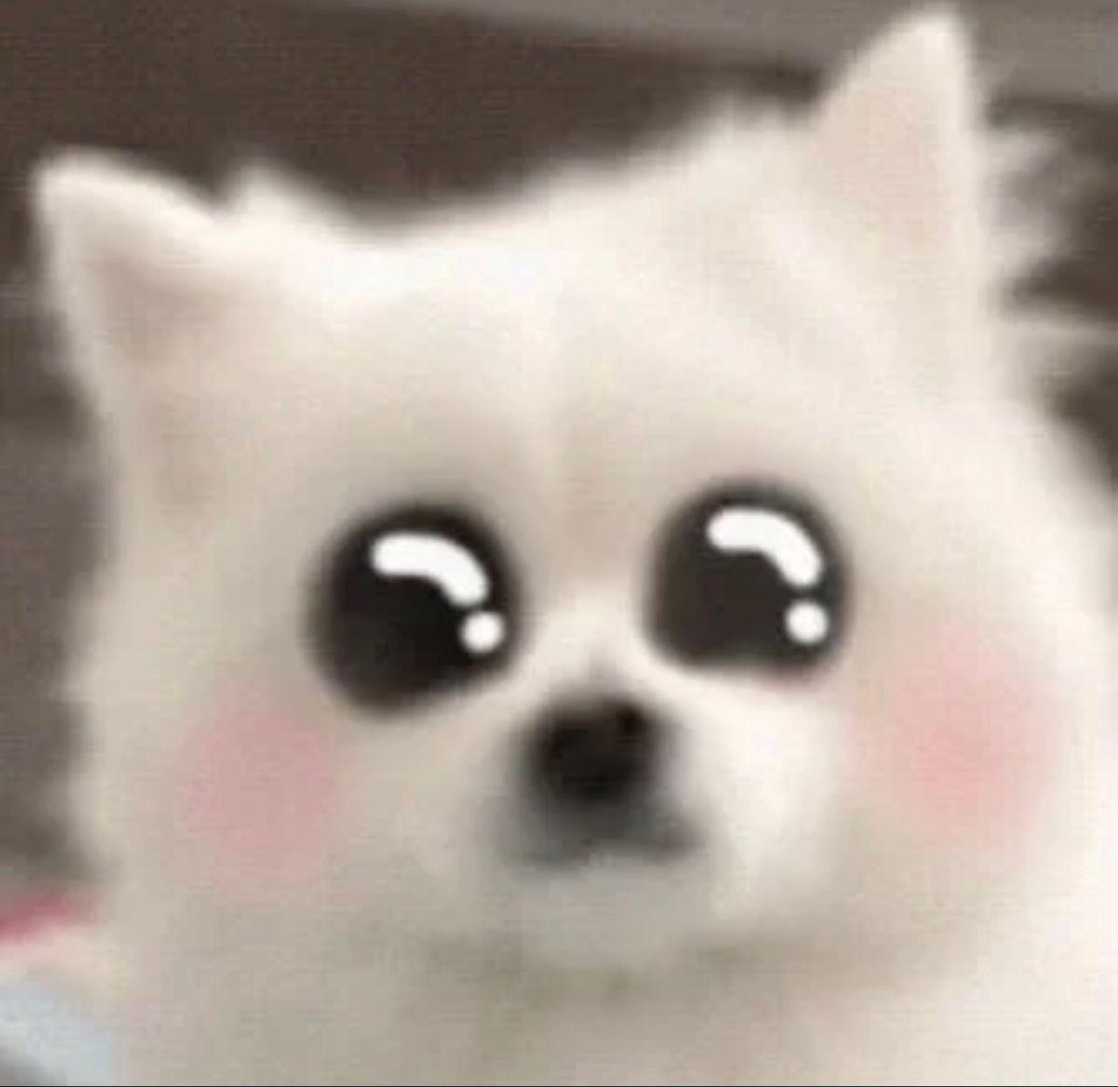puppy-dog: (24, 6, 1118, 1087)
